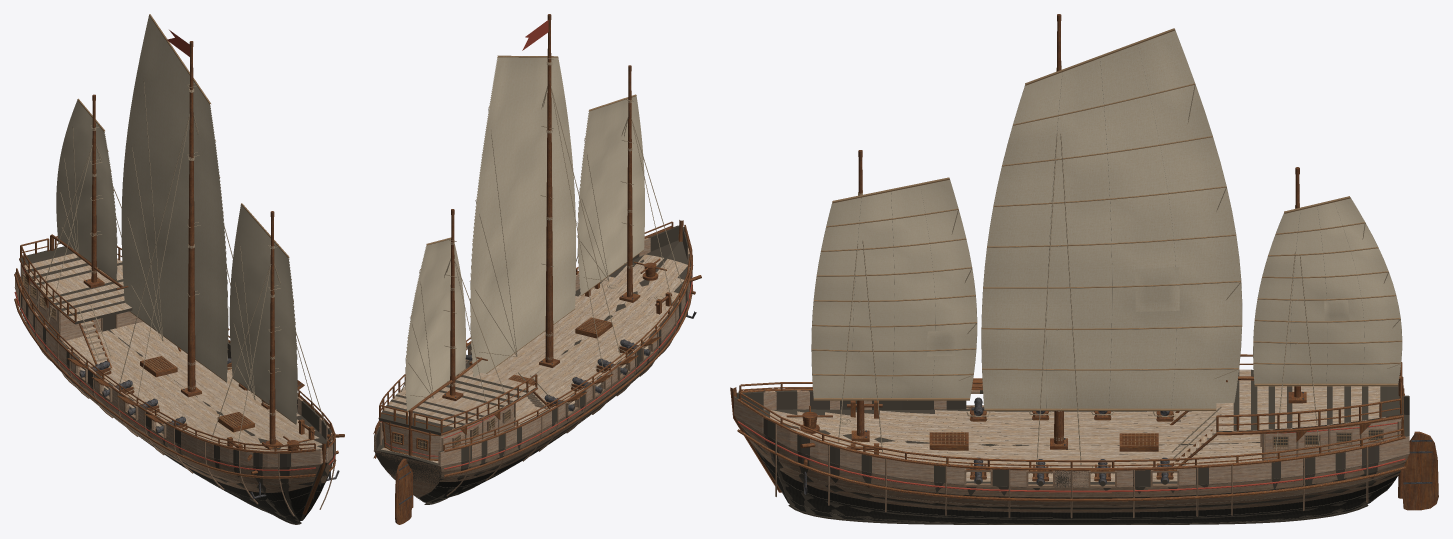
Rendered from fuchuan-lod2.glb.
3 views of the same model, side by side, from view 1: azimuth 30°, elevation 25°; view 2: azimuth 150°, elevation 25°; view 3: azimuth 270°, elevation 25° (orthographic). The views are drawn at different scales.
Parts seen in each view (by area): view 1: sail_1, deck, hull, sail_0, sail_2, shadow_hull, deck_fittings, bulwark_rails, mast_timber_1, shadow_deck, sterncastle, mast_timber_0 (+6 smaller); view 2: sail_1, deck, sail_0, hull, sail_2, shadow_hull, deck_fittings, bulwark_rails, mast_timber_1, shadow_deck, mast_timber_0, stern_transom (+7 smaller); view 3: sail_1, hull, sail_0, sail_2, deck, shadow_hull, deck_fittings, bulwark_rails, shadow_deck, rudder_blade, sterncastle, rigging_1.
Part boxes in pixels (box(x1,y1,x2,y2)): sail_1: box(121, 14, 228, 382); deck: box(19, 253, 322, 451); hull: box(14, 273, 336, 524); sail_0: box(229, 203, 297, 424); sail_2: box(56, 98, 117, 281); shadow_hull: box(15, 272, 333, 522); deck_fittings: box(20, 264, 344, 498); bulwark_rails: box(16, 236, 334, 453); mast_timber_1: box(187, 47, 195, 392); shadow_deck: box(20, 246, 132, 324); sterncastle: box(22, 269, 143, 341); mast_timber_0: box(269, 217, 275, 444); sail_1: box(469, 55, 575, 377); deck: box(378, 254, 687, 463); sail_0: box(577, 94, 644, 295); hull: box(373, 220, 693, 504); sail_2: box(405, 237, 465, 411); shadow_hull: box(374, 225, 691, 502); deck_fittings: box(379, 258, 701, 460); bulwark_rails: box(375, 221, 691, 450); mast_timber_1: box(545, 20, 553, 362); shadow_deck: box(379, 374, 536, 435); mast_timber_0: box(627, 71, 632, 297); stern_transom: box(384, 422, 440, 458); sail_1: box(981, 28, 1242, 411); hull: box(730, 387, 1409, 524); sail_0: box(811, 177, 977, 400); sail_2: box(1253, 196, 1402, 386); deck: box(770, 369, 1403, 481); shadow_hull: box(734, 390, 1409, 523); deck_fittings: box(786, 385, 1403, 494); bulwark_rails: box(739, 354, 1404, 467); shadow_deck: box(1216, 369, 1403, 432); rudder_blade: box(1402, 431, 1438, 510); sterncastle: box(1262, 418, 1400, 460); rigging_1: box(1036, 133, 1081, 465).
Bounding box in the file's own units: 10.4 × 26.66 × 33.57.
Materials: 13 (8 with a texture image).
